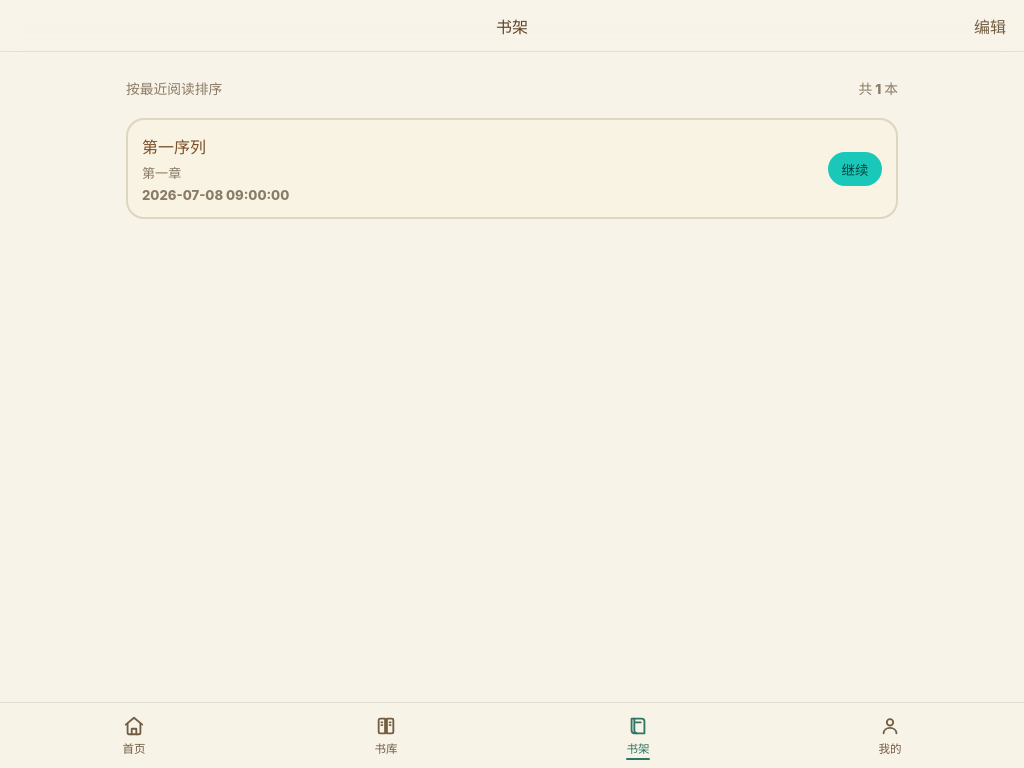
BookshelfPage › keeps edit state when removing returns false
Click the button "编辑" at (990, 26), box [968,12,1012,38]
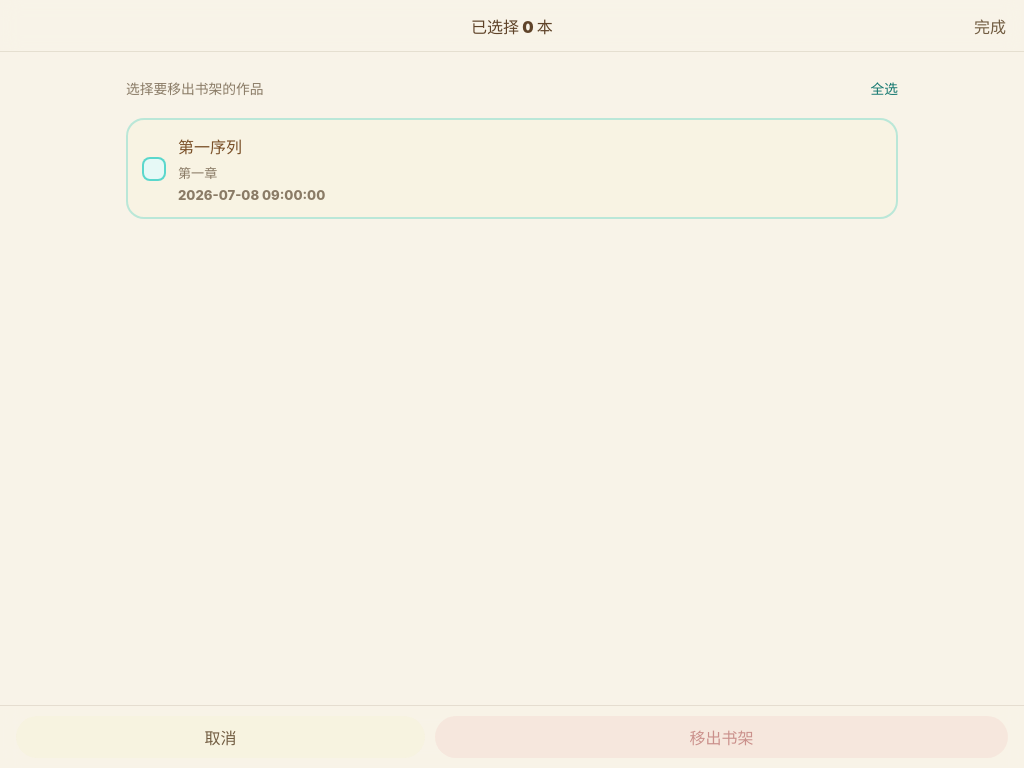
Click the button with aria-label "选择 第一序列" at (210, 147), box [126,118,898,219]
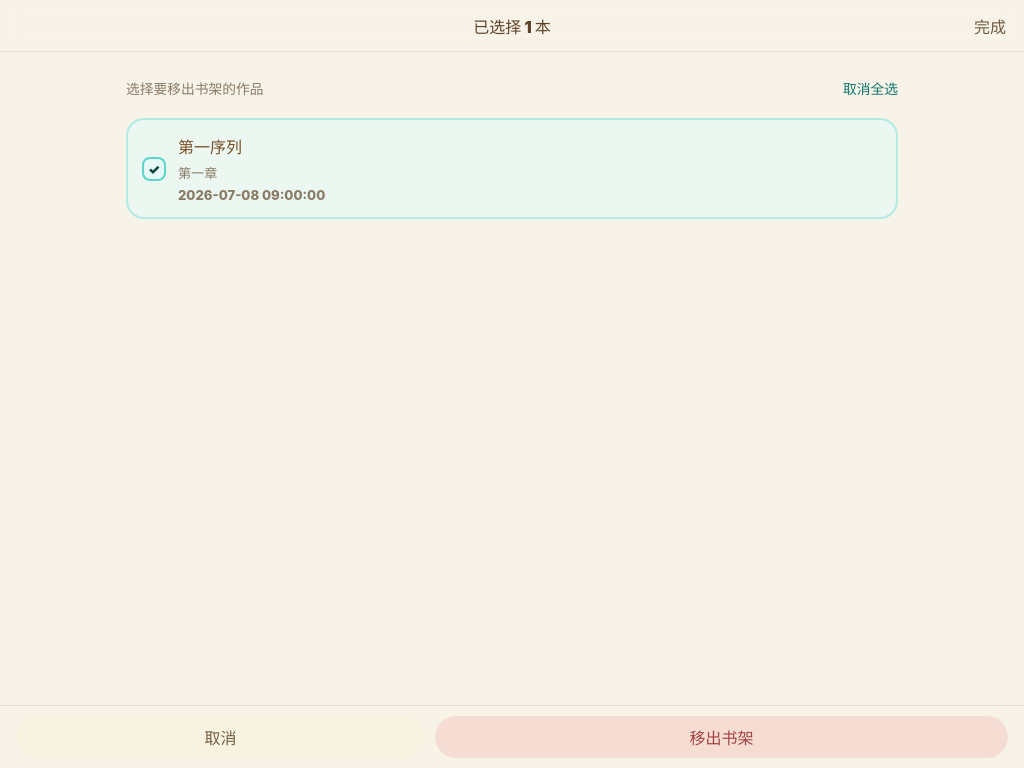
Click the button "移出书架" at (722, 737), box [435,716,1008,758]
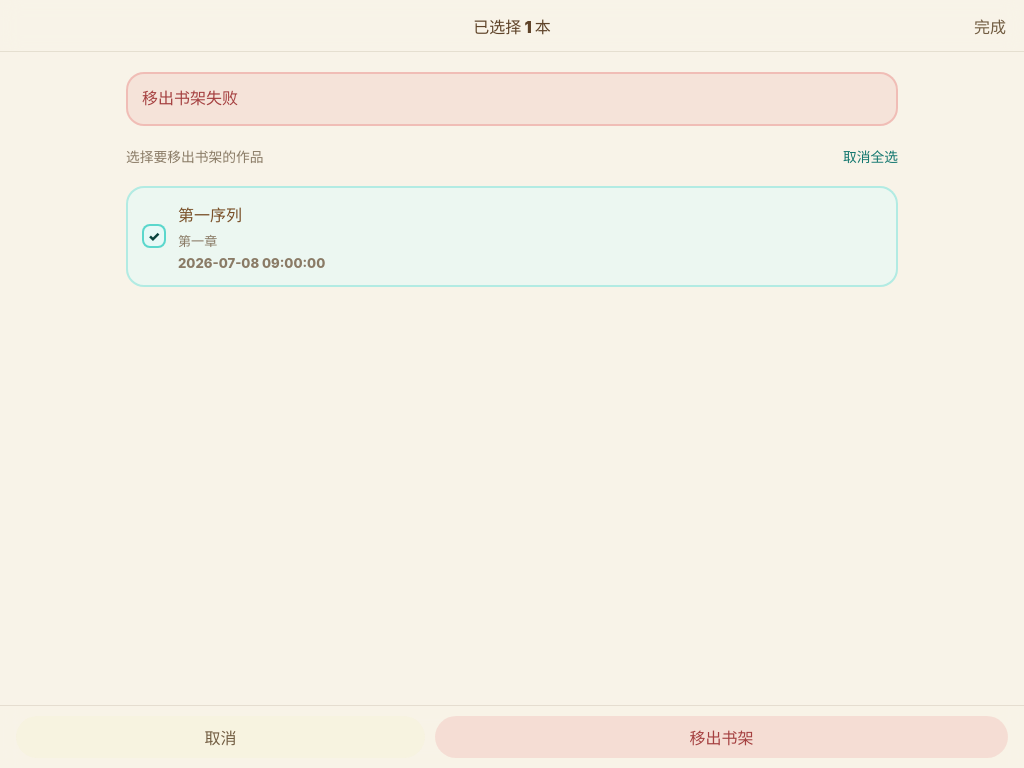
Now the heading "已选择 1 本" is shown, box [473,14,551,38]
Now the button with test id "bookshelf-row" shows "第一序列", box [126,186,898,287]
Now the text "移出书架失败" is shown, box [126,72,898,126]
